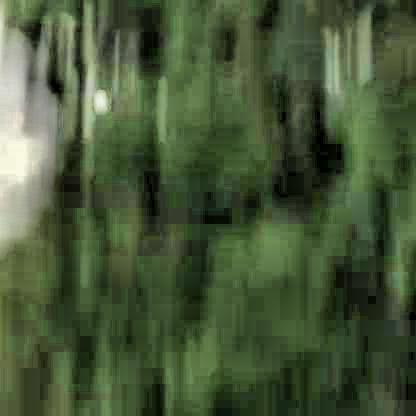golfball: (91, 82, 107, 106)
